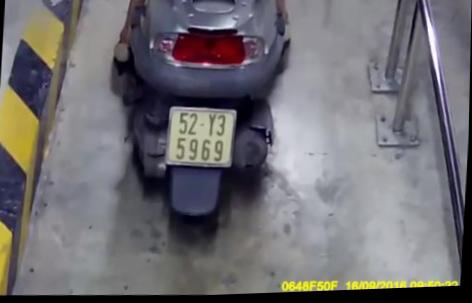LP: (165, 102, 240, 174)
